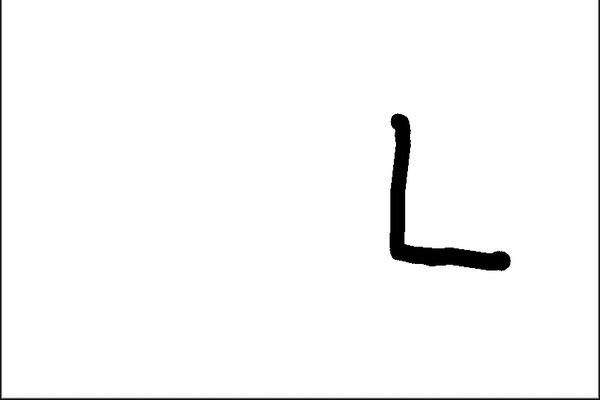L: (379, 105, 516, 280)
